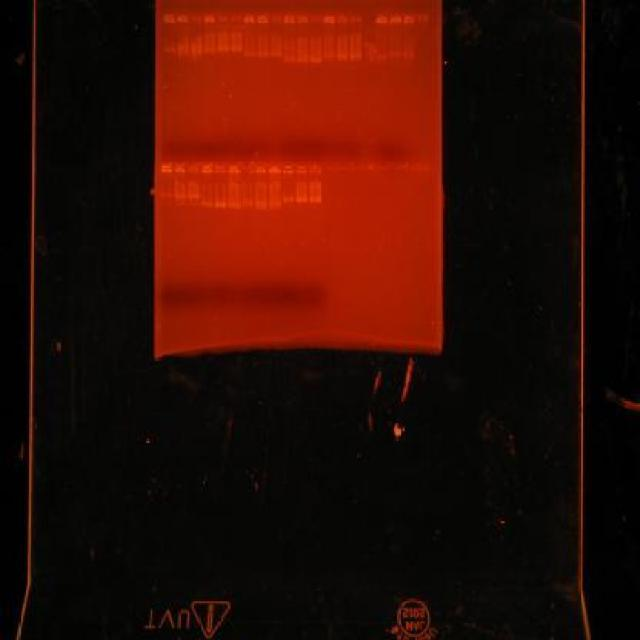B: (254, 200, 268, 212), (241, 198, 254, 210), (190, 49, 203, 60), (203, 46, 217, 56), (388, 50, 402, 59), (402, 51, 415, 60), (177, 50, 190, 59), (163, 47, 177, 55), (349, 53, 363, 61), (296, 56, 310, 64), (229, 45, 243, 53), (227, 202, 241, 210), (375, 53, 388, 61), (217, 45, 230, 53), (215, 202, 228, 210), (269, 202, 282, 210), (295, 197, 308, 205), (309, 197, 322, 205), (244, 50, 256, 58), (282, 198, 295, 205), (309, 56, 323, 62), (322, 52, 336, 58), (282, 56, 296, 62), (270, 51, 284, 57), (256, 51, 270, 57), (336, 53, 349, 59), (187, 194, 200, 200), (187, 200, 200, 206), (200, 202, 213, 208), (160, 192, 172, 198), (174, 193, 186, 199), (174, 201, 186, 207)
L: (156, 158, 432, 177), (160, 10, 431, 27)
Pc: (158, 161, 174, 174), (402, 12, 416, 26), (388, 12, 402, 26), (322, 12, 336, 26), (256, 12, 270, 26), (240, 162, 254, 176), (280, 162, 294, 176), (268, 162, 282, 176), (374, 12, 388, 25), (173, 161, 187, 174), (186, 161, 200, 174), (200, 161, 214, 174), (227, 162, 241, 175), (254, 162, 268, 175), (294, 162, 308, 175), (308, 162, 321, 176), (362, 161, 376, 174), (376, 160, 390, 173), (402, 161, 416, 174), (336, 12, 349, 25), (215, 161, 228, 174), (321, 161, 334, 174), (335, 162, 348, 175), (349, 161, 362, 174), (230, 12, 242, 26), (163, 13, 177, 24), (203, 13, 217, 24), (242, 13, 256, 24), (217, 13, 230, 24), (416, 12, 429, 23), (349, 13, 362, 24), (308, 14, 322, 24), (282, 14, 296, 24), (416, 162, 430, 172), (390, 162, 404, 172), (178, 13, 190, 24), (190, 13, 202, 24), (270, 13, 282, 24), (296, 14, 309, 24)
